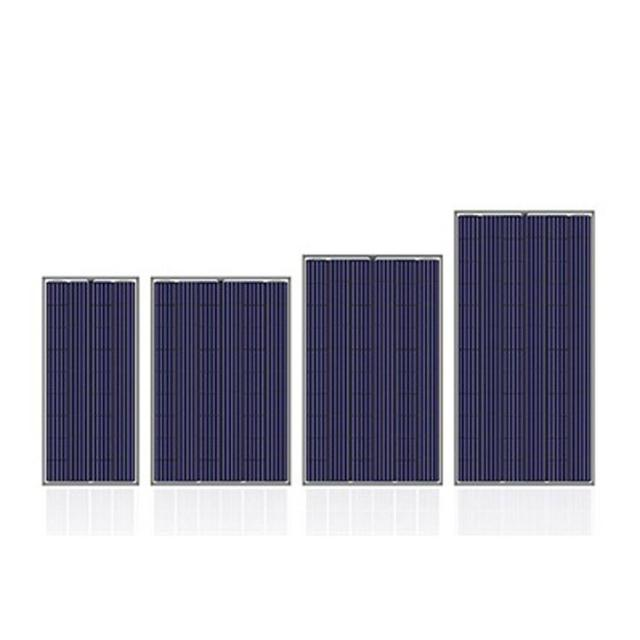clean-solar-panel: (146, 212, 594, 485), (44, 278, 140, 484), (45, 279, 135, 481)
